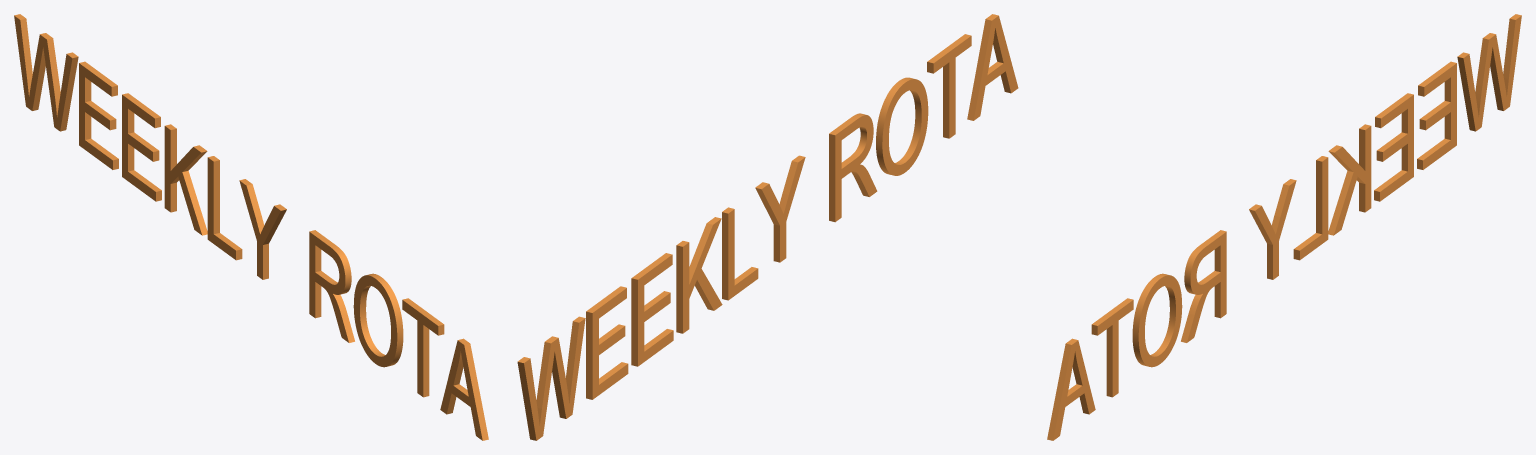
File: RotaBoardTXT.FBX
3 renders of one model, left to right at view 1: azimuth 30°, elevation 25°; view 2: azimuth 150°, elevation 25°; view 3: azimuth 330°, elevation 25°, orthographic. The views are drawn at different scales.
Parts seen in each view (by area): view 1: TextPlus001; view 2: TextPlus001; view 3: TextPlus001.
Boxes of the visible parts, box(x1,y1,x2,y2) form: TextPlus001: box(14, 14, 488, 440); TextPlus001: box(517, 14, 1018, 440); TextPlus001: box(1047, 14, 1521, 440).
Size of the model in its own units: 0.3937 by 5.22 by 52.04.
